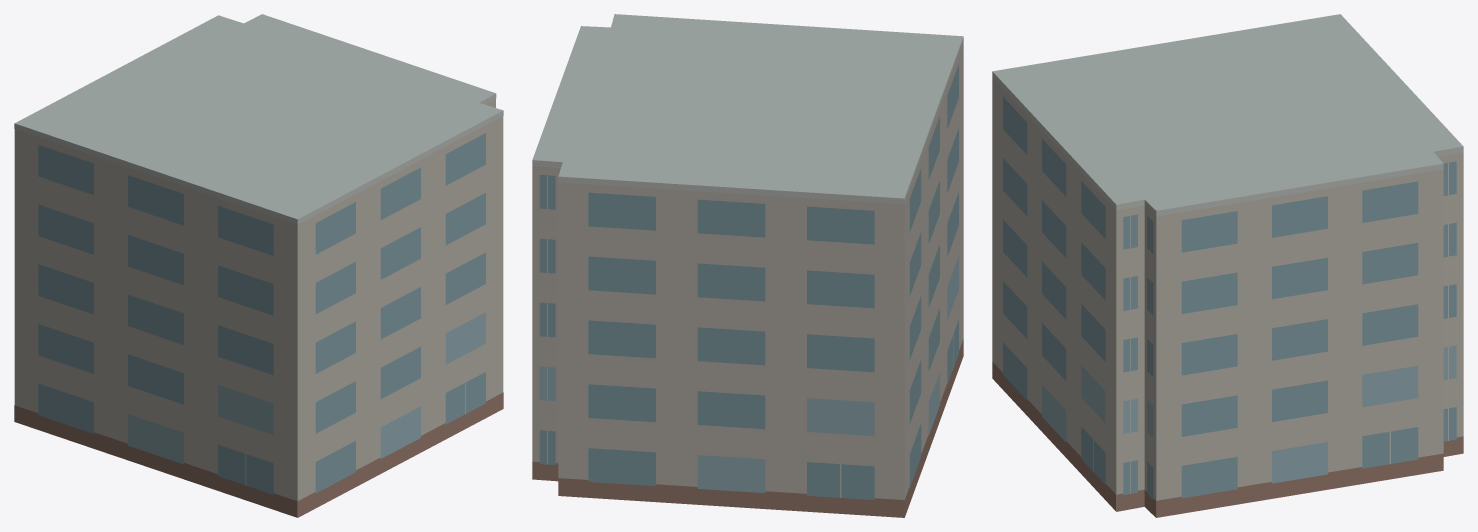
The model's file is survey-upis-32889326.glb.
The picture shows the model from 3 angles, left to right: view 1: azimuth 30°, elevation 25°; view 2: azimuth 150°, elevation 25°; view 3: azimuth 270°, elevation 25°; orthographic projection. The views are drawn at different scales.
Visible parts, largest first — view 1: survey-upis-32889326.tmp; view 2: survey-upis-32889326.tmp; view 3: survey-upis-32889326.tmp.
Part boxes in pixels (box(x1,y1,x2,y2)): survey-upis-32889326.tmp: box(14, 14, 503, 517); survey-upis-32889326.tmp: box(532, 14, 963, 517); survey-upis-32889326.tmp: box(992, 14, 1463, 517).
Size of the model in its own units: 18.29 by 13.3 by 18.51.
